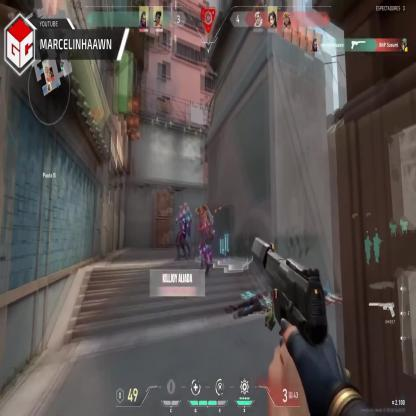enemy: (196, 206, 212, 274), (176, 202, 190, 260)
enemy_head: (201, 206, 206, 216), (183, 202, 188, 210)
